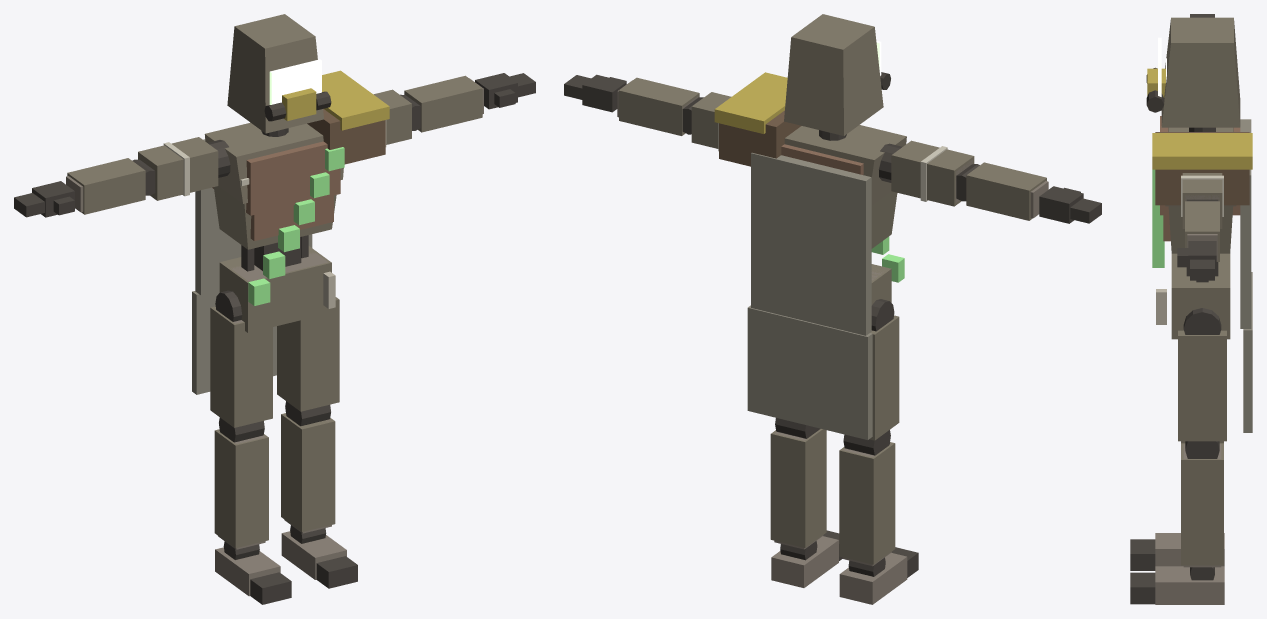
The model's file is char_P_pilot.glb.
3 renders of one model, left to right at view 1: azimuth 30°, elevation 25°; view 2: azimuth 150°, elevation 25°; view 3: azimuth 270°, elevation 25°, orthographic. The views are drawn at different scales.
Visible parts, largest first — view 1: UpperChest_mesh, Head_mesh, Hips_mesh, RightUpperLeg_mesh, LeftLowerLeg_mesh, RightLowerLeg_mesh, LeftUpperLeg_mesh, Chest_mesh, LeftShoulder_mesh, RightLowerArm_mesh, RightUpperArm_mesh, LeftLowerArm_mesh (+8 smaller); view 2: UpperChest_mesh, Hips_mesh, Head_mesh, RightLowerLeg_mesh, LeftLowerLeg_mesh, LeftShoulder_mesh, RightLowerArm_mesh, RightUpperArm_mesh, RightUpperLeg_mesh, LeftLowerArm_mesh, RightFoot_mesh, LeftFoot_mesh (+4 smaller); view 3: Head_mesh, LeftUpperLeg_mesh, LeftShoulder_mesh, LeftLowerLeg_mesh, Hips_mesh, UpperChest_mesh, LeftFoot_mesh, Chest_mesh, LeftLowerArm_mesh, LeftUpperArm_mesh, LeftHand_mesh, RightFoot_mesh (+3 smaller).
Boxes of the visible parts, <box> form: UpperChest_mesh: <box>195,122,344,295</box>; Head_mesh: <box>227,14,331,133</box>; Hips_mesh: <box>192,246,331,394</box>; RightUpperLeg_mesh: <box>210,290,272,427</box>; LeftLowerLeg_mesh: <box>281,401,335,533</box>; RightLowerLeg_mesh: <box>214,417,268,549</box>; LeftUpperLeg_mesh: <box>277,297,339,411</box>; Chest_mesh: <box>214,186,336,305</box>; LeftShoulder_mesh: <box>307,70,389,164</box>; RightLowerArm_mesh: <box>66,158,155,214</box>; RightUpperArm_mesh: <box>138,137,218,200</box>; LeftLowerArm_mesh: <box>400,75,483,132</box>; UpperChest_mesh: <box>751,125,906,335</box>; Hips_mesh: <box>747,264,891,439</box>; Head_mesh: <box>784,14,890,135</box>; RightLowerLeg_mesh: <box>839,430,895,566</box>; LeftLowerLeg_mesh: <box>770,418,826,549</box>; LeftShoulder_mesh: <box>714,72,801,166</box>; RightLowerArm_mesh: <box>956,162,1048,220</box>; RightUpperArm_mesh: <box>891,140,974,206</box>; RightUpperLeg_mesh: <box>869,299,899,440</box>; LeftLowerArm_mesh: <box>617,77,703,135</box>; RightFoot_mesh: <box>839,552,907,604</box>; LeftFoot_mesh: <box>771,536,838,587</box>; Head_mesh: <box>1146,17,1240,127</box>; LeftUpperLeg_mesh: <box>1178,308,1226,441</box>; LeftShoulder_mesh: <box>1152,132,1252,205</box>; LeftLowerLeg_mesh: <box>1181,441,1223,567</box>; Hips_mesh: <box>1171,253,1252,432</box>; UpperChest_mesh: <box>1152,116,1251,328</box>; LeftFoot_mesh: <box>1155,566,1224,604</box>; Chest_mesh: <box>1152,206,1233,267</box>; LeftLowerArm_mesh: <box>1185,199,1219,261</box>; LeftUpperArm_mesh: <box>1181,173,1223,228</box>; LeftHand_mesh: <box>1177,241,1216,280</box>; RightFoot_mesh: <box>1155,533,1224,566</box>.
Bounding box in the file's own units: 1.92 × 1.93 × 0.39.
